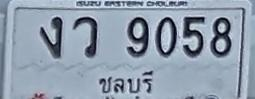0: (155, 16, 177, 57)
5: (182, 16, 205, 57)
8: (211, 16, 232, 57)
9: (126, 16, 148, 57)
A07: (40, 16, 63, 58)
A37: (72, 16, 98, 57)
CBI: (93, 66, 157, 97)
